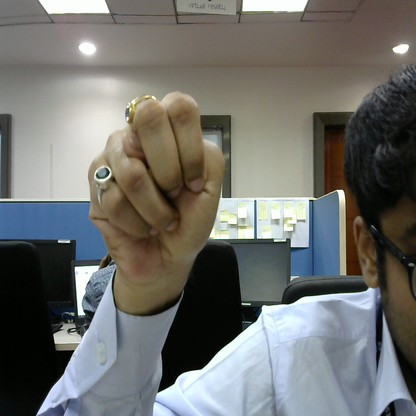n: (79, 86, 229, 296)
